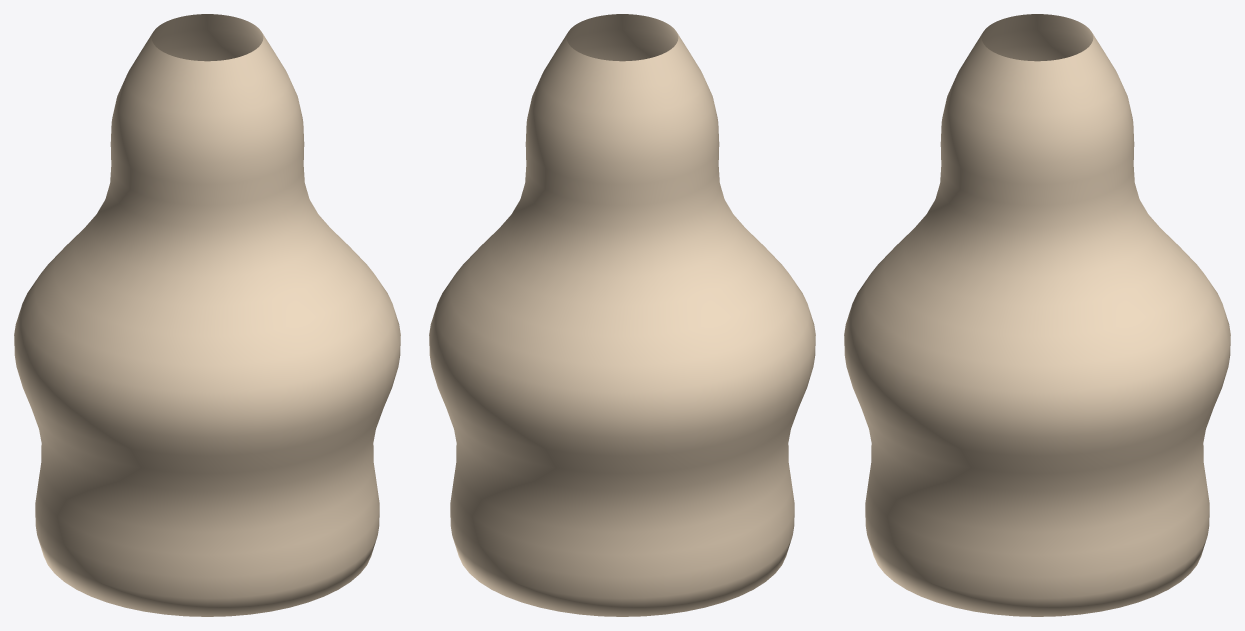
The model's file is example.gltf.
The picture shows the model from 3 angles, left to right: view 1: azimuth 30°, elevation 25°; view 2: azimuth 150°, elevation 25°; view 3: azimuth 270°, elevation 25°; orthographic projection.
Visible parts, largest first — view 1: lathe; view 2: lathe; view 3: lathe.
Part boxes in pixels (x1,y1,x2,y2): lathe: [14, 14, 400, 616]; lathe: [429, 14, 815, 616]; lathe: [844, 14, 1230, 616].
Size of the model in its own units: 1.1 by 1.6 by 1.1.
